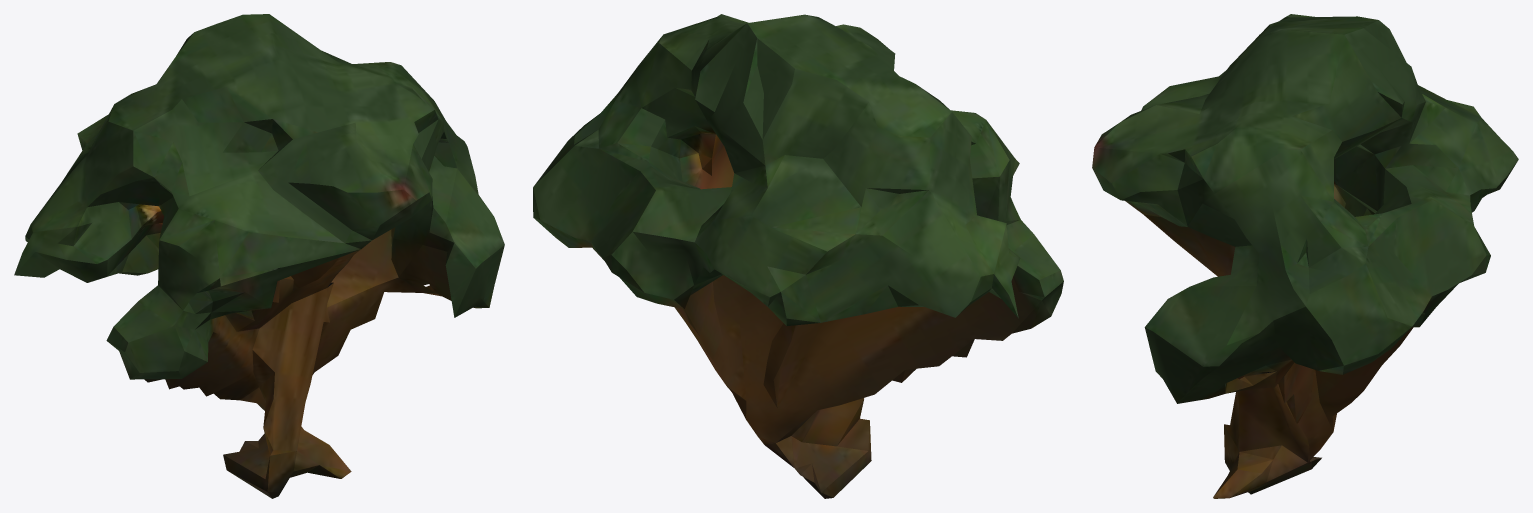
The model's file is bg_field_leaf_2_lod0.glb.
3 views of the same model, side by side, from view 1: azimuth 30°, elevation 25°; view 2: azimuth 150°, elevation 25°; view 3: azimuth 270°, elevation 25° (orthographic). The views are drawn at different scales.
Visible parts, largest first — view 1: sway, body; view 2: sway, body; view 3: sway, body.
Part boxes in pixels (x1,y1,x2,y2): sway: (14, 14, 504, 379); body: (136, 204, 475, 498); sway: (533, 14, 1063, 333); body: (675, 126, 1041, 498); sway: (1092, 14, 1518, 403); body: (1144, 181, 1424, 498).
Bounding box in the file's own units: 6.33 × 6.08 × 4.92.
1 material, 1 textured.
